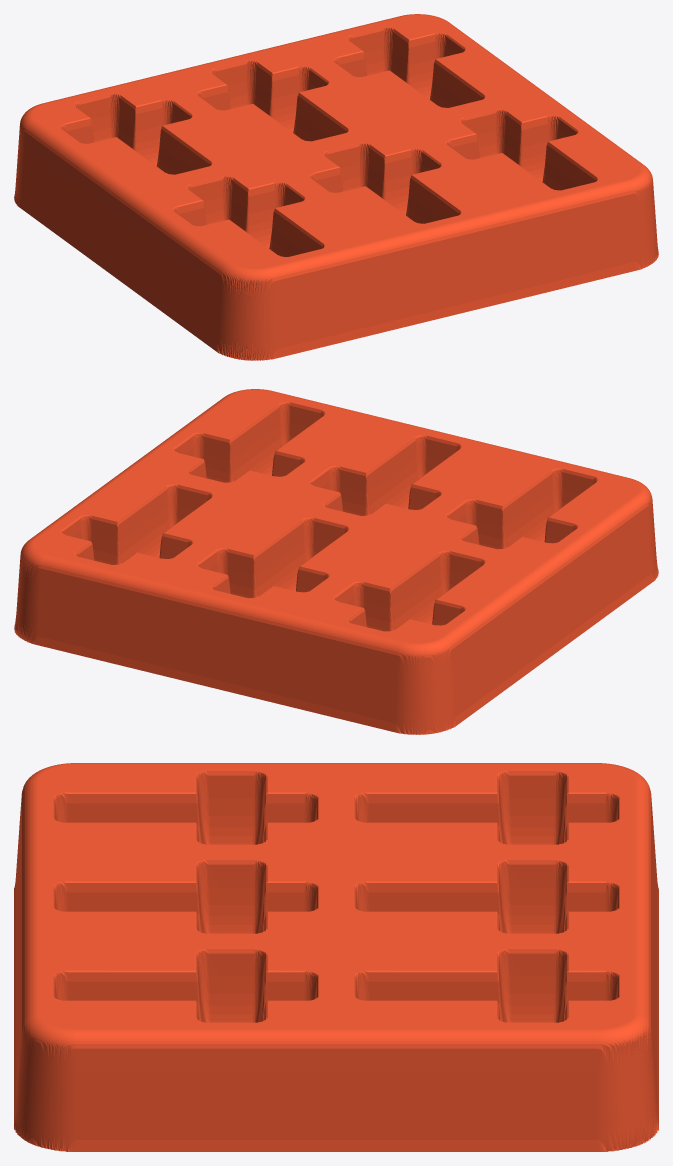
File: mold.glb
3 views of the same model, one above another, from view 1: azimuth 30°, elevation 25°; view 2: azimuth 150°, elevation 25°; view 3: azimuth 270°, elevation 25° (orthographic). The views are drawn at different scales.
Parts seen in each view (by area): view 1: geometry_0; view 2: geometry_0; view 3: geometry_0.
Boxes of the visible parts, <box> form: geometry_0: <box>14,14,658,360</box>; geometry_0: <box>14,389,658,734</box>; geometry_0: <box>14,763,658,1151</box>.
Size of the model in its own units: 0.0991 by 0.0182 by 0.0947.
